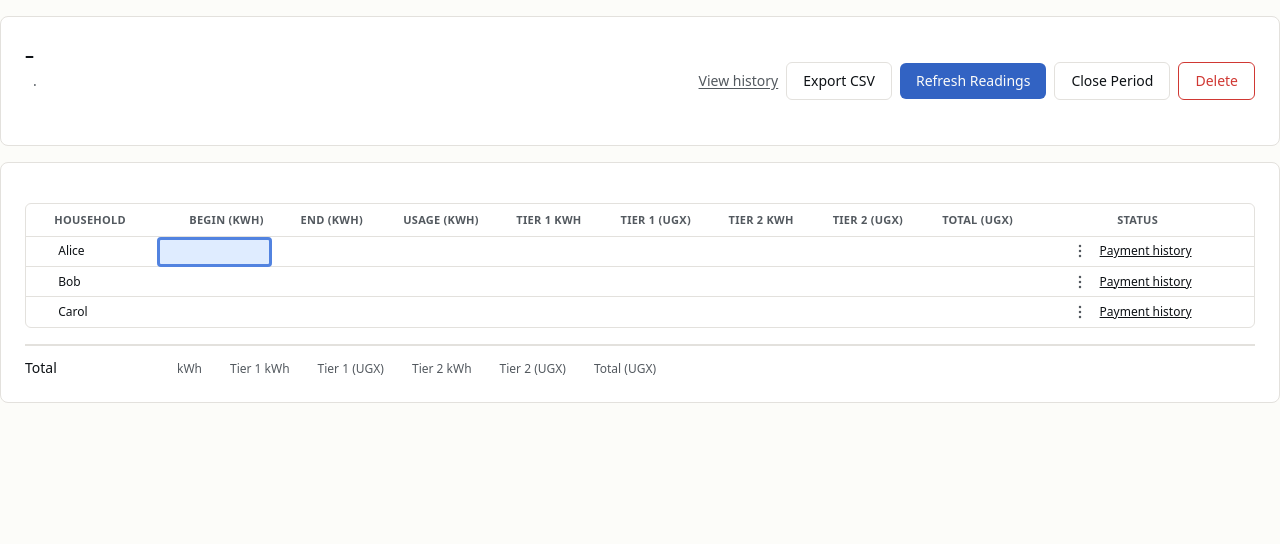
Test: BillingTable › (#221) forwards pesapal_redirect_url through the prop chain — drift row shows Regenerate
The image size is (1280, 544).
Click the button named "row actions for alice": click(1080, 251) [1066,237,1094,265]
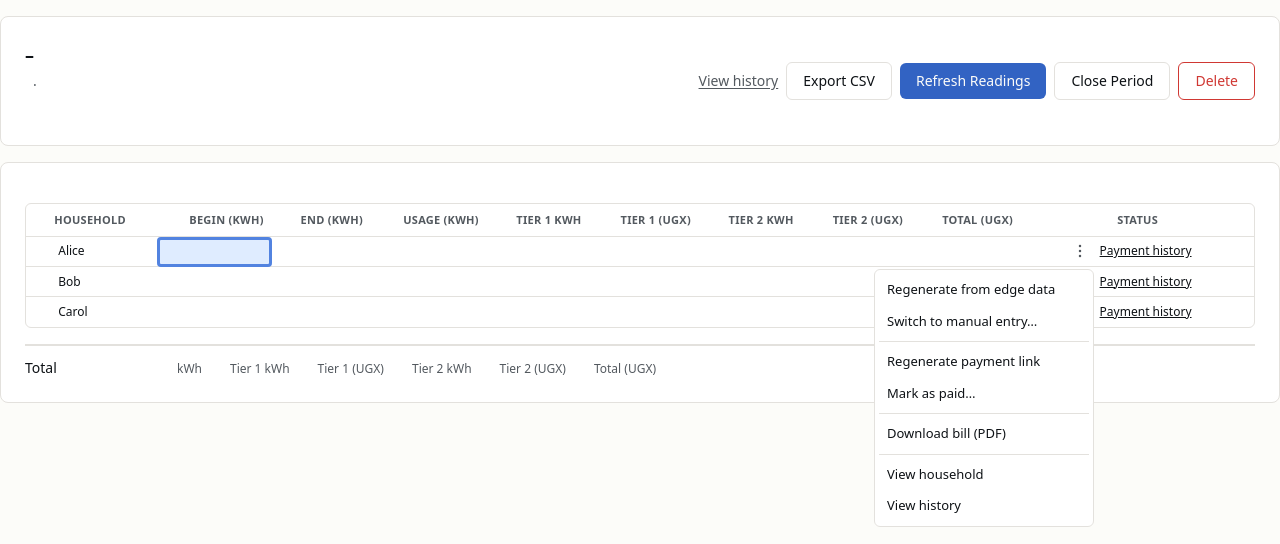
Expected: the text "Regenerate payment link" is shown, [887,352,1040,370]
